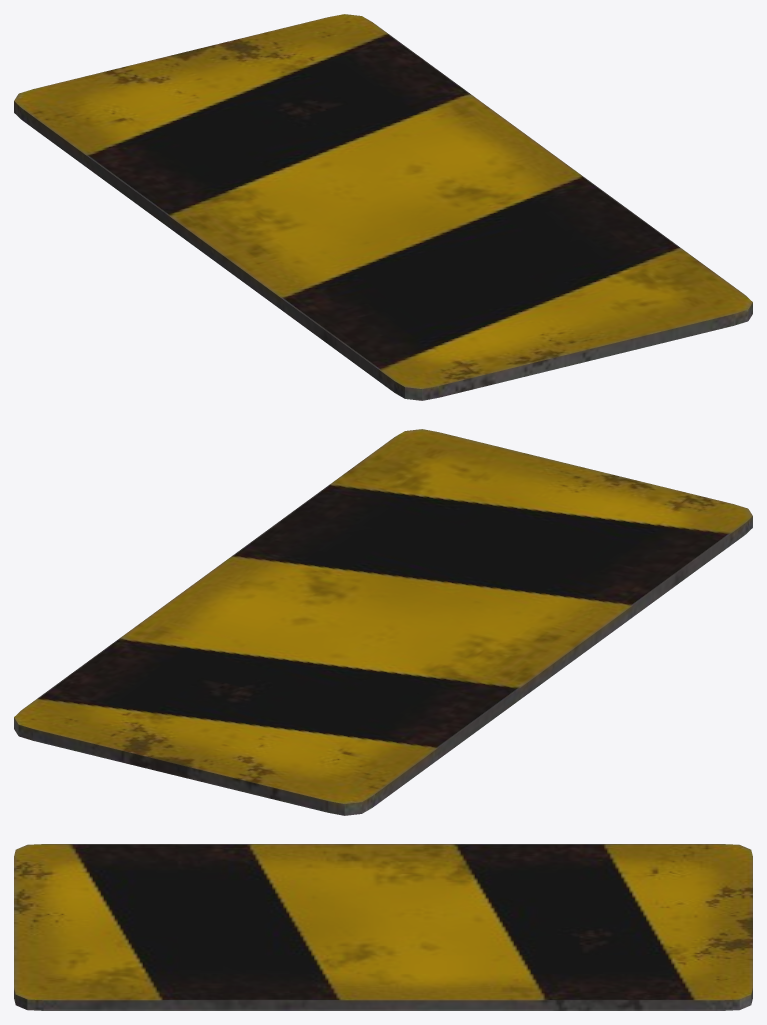
The model's file is Sign_B.fbx.
3 renders of one model, top to bottom at view 1: azimuth 30°, elevation 25°; view 2: azimuth 150°, elevation 25°; view 3: azimuth 270°, elevation 25°, orthographic. The views are drawn at different scales.
Parts seen in each view (by area): view 1: Sign_B; view 2: Sign_B; view 3: Sign_B.
Part boxes in pixels (box(x1,y1,x2,y2)): Sign_B: box(14, 14, 752, 400); Sign_B: box(14, 429, 752, 815); Sign_B: box(14, 844, 752, 1010).
Bounding box in the file's own units: 25 × 0.8 × 50.
